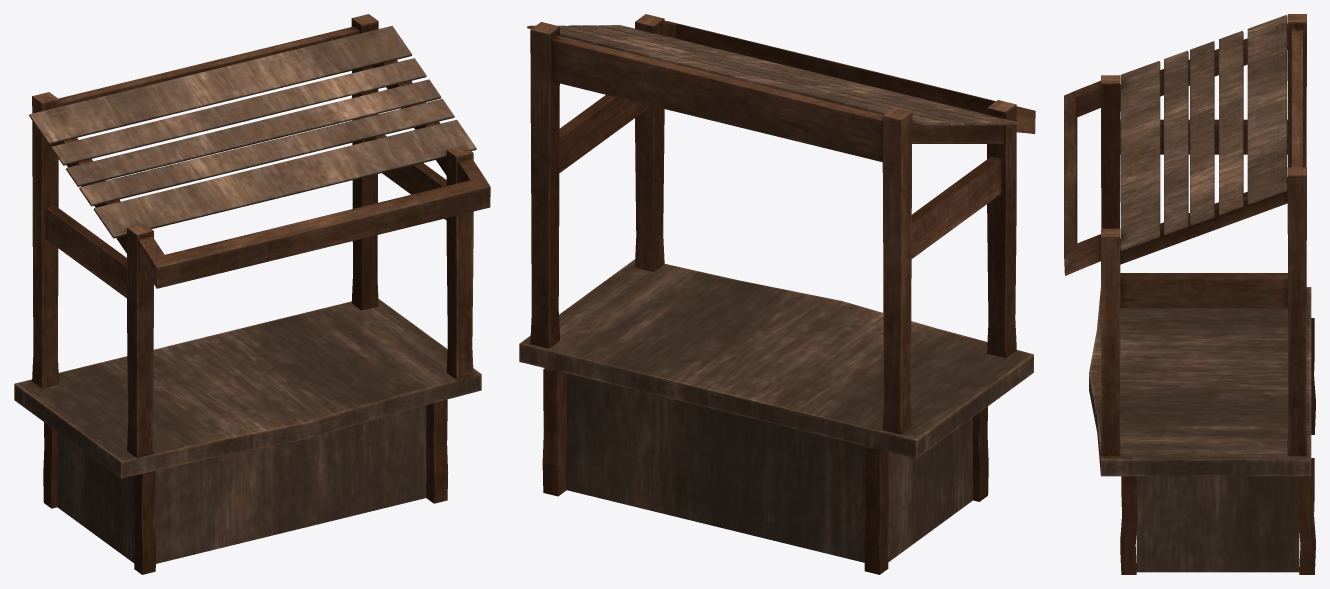
The model's file is market_stall.glb.
3 views of the same model, side by side, from view 1: azimuth 30°, elevation 25°; view 2: azimuth 150°, elevation 25°; view 3: azimuth 270°, elevation 25° (orthographic). The views are drawn at different scales.
Visible parts, largest first — view 1: defaultMaterial.001; view 2: defaultMaterial.001; view 3: defaultMaterial.001.
Boxes of the visible parts, box(x1,y1,x2,y2) form: defaultMaterial.001: box(14, 14, 490, 574); defaultMaterial.001: box(519, 14, 1035, 574); defaultMaterial.001: box(1064, 14, 1315, 574).
Bounding box in the file's own units: 277 × 299 × 168.
Materials: 1 (1 with a texture image).
